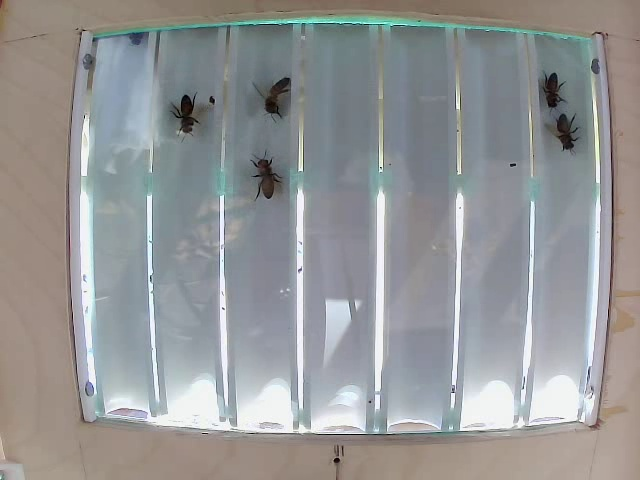bee: (238, 146, 287, 210), (253, 74, 303, 122), (159, 95, 204, 142), (546, 111, 586, 153), (538, 62, 567, 101)
